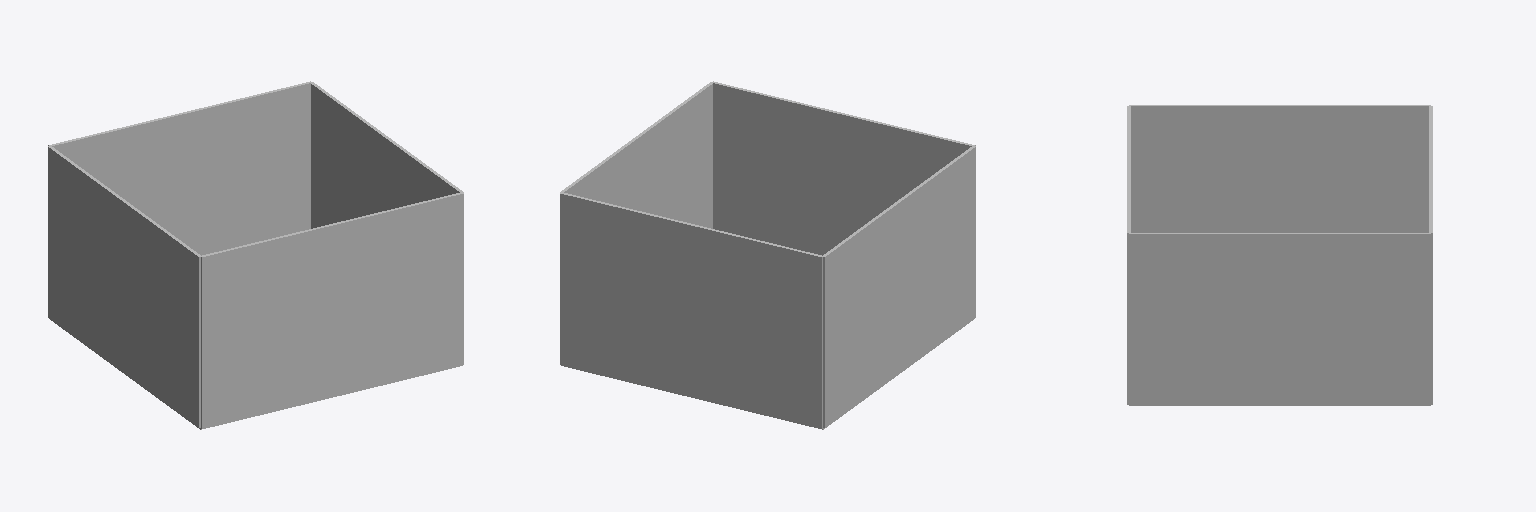
Rendered from room_collider.obj.
3 views of the same model, side by side, from view 1: azimuth 30°, elevation 25°; view 2: azimuth 150°, elevation 25°; view 3: azimuth 270°, elevation 25° (orthographic).
Visible parts, largest first — view 1: Cube.001, Cube, Cube.003_Cube.004, Cube.002_Cube.003; view 2: Cube, Cube.001, Cube.003_Cube.004, Cube.002_Cube.003; view 3: Cube.002_Cube.003, Cube.003_Cube.004, Cube.001, Cube.
Boxes of the visible parts, <box> form: Cube.001: <box>201,192,463,428</box>; Cube: <box>48,81,311,255</box>; Cube.003_Cube.004: <box>48,146,201,427</box>; Cube.002_Cube.003: <box>311,82,463,228</box>; Cube: <box>560,192,822,428</box>; Cube.001: <box>712,81,975,255</box>; Cube.003_Cube.004: <box>822,146,975,427</box>; Cube.002_Cube.003: <box>560,82,712,228</box>; Cube.002_Cube.003: <box>1129,233,1430,405</box>; Cube.003_Cube.004: <box>1129,105,1430,232</box>; Cube.001: <box>1127,106,1130,404</box>; Cube: <box>1429,106,1432,404</box>.
Size of the model in its own units: 16.2 by 10.1 by 16.2.